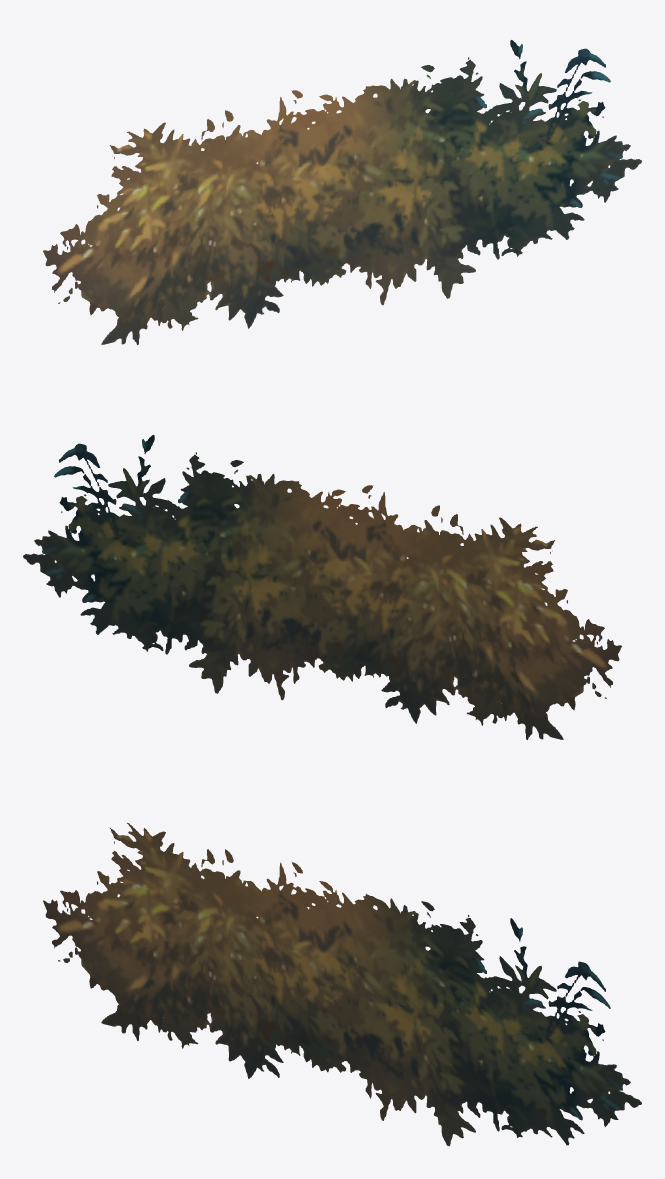
File: HuBian_NightZhiwu7_fbx.FBX
The picture shows the model from 3 angles, top to bottom: view 1: azimuth 30°, elevation 25°; view 2: azimuth 150°, elevation 25°; view 3: azimuth 330°, elevation 25°; orthographic projection.
Parts seen in each view (by area): view 1: Object034; view 2: Object034; view 3: Object034.
Part boxes in pixels (x1=…): Object034: x1=43, y1=40, x2=641, y2=344; Object034: x1=23, y1=435, x2=621, y2=739; Object034: x1=43, y1=822, x2=641, y2=1146.
Bounding box in the file's own units: 2.99 × 1.22 × 5.39e-07.
Materials: 1 (1 with a texture image).
